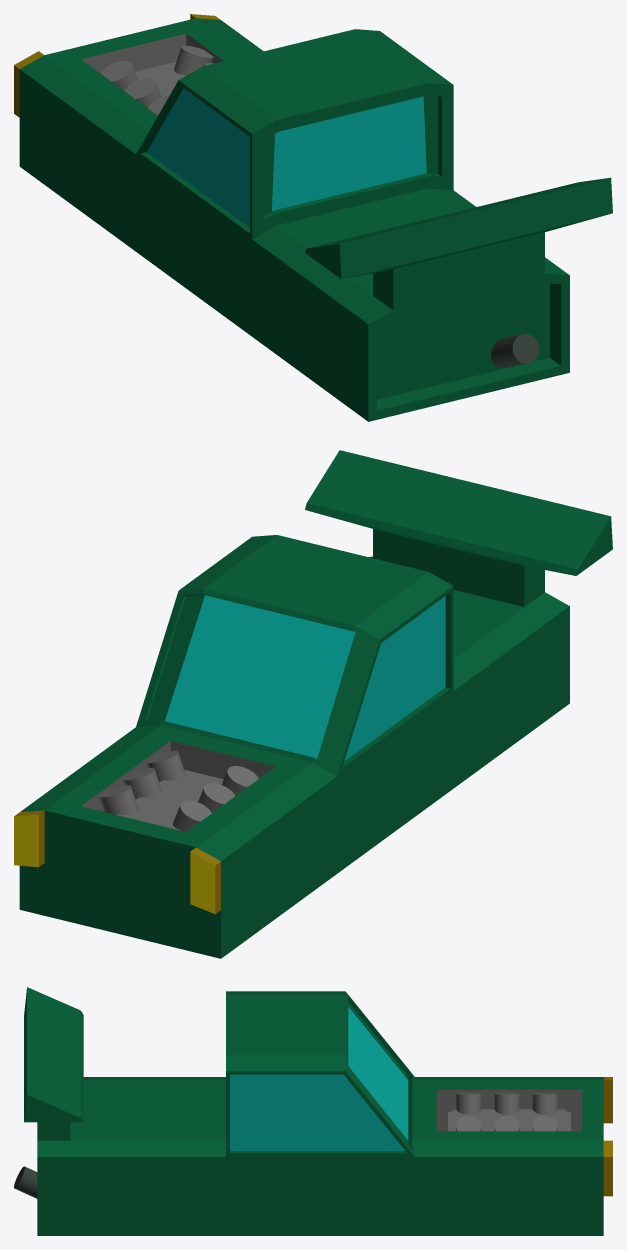
File: hektor_car_mesh.glb
3 views of the same model, one above another, from view 1: azimuth 30°, elevation 25°; view 2: azimuth 150°, elevation 25°; view 3: azimuth 270°, elevation 25° (orthographic). The views are drawn at different scales.
Parts seen in each view (by area): view 1: car; view 2: car; view 3: car.
Boxes of the visible parts, box(x1,y1,x2,y2) form: car: box(14, 14, 612, 421); car: box(14, 450, 612, 958); car: box(14, 987, 612, 1235).
Size of the model in its own units: 2.7 by 2 by 6.34.
